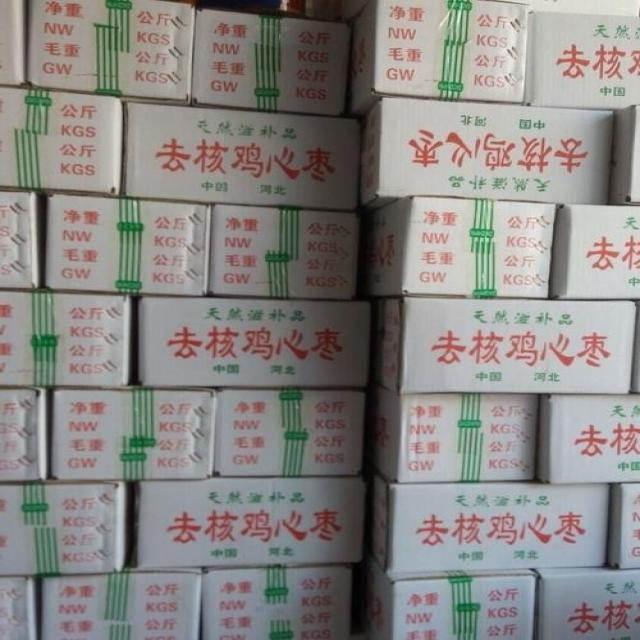box: (359, 98, 611, 216), (371, 296, 639, 395), (126, 99, 364, 210), (362, 467, 609, 573), (130, 476, 366, 571), (135, 296, 371, 389), (345, 0, 528, 118), (365, 198, 560, 299), (29, 0, 197, 103), (46, 195, 208, 297), (193, 11, 349, 116), (367, 387, 539, 482), (351, 559, 542, 639), (51, 389, 212, 480), (207, 206, 361, 298), (0, 86, 125, 197), (212, 389, 367, 476), (0, 292, 129, 390), (0, 482, 131, 576), (525, 13, 639, 113), (202, 565, 353, 639), (38, 572, 203, 638), (542, 395, 639, 485), (550, 205, 639, 301), (534, 567, 639, 637), (0, 193, 45, 289), (609, 104, 639, 205), (605, 482, 639, 568), (0, 1, 28, 89), (0, 576, 39, 638)
